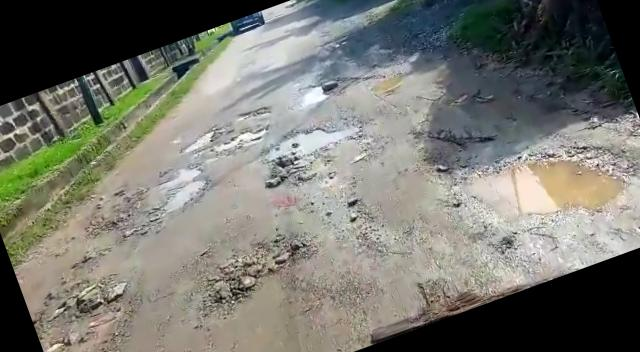pothole: (454, 118, 636, 248), (250, 108, 366, 176), (132, 162, 216, 218), (206, 121, 274, 156), (290, 78, 338, 112)
